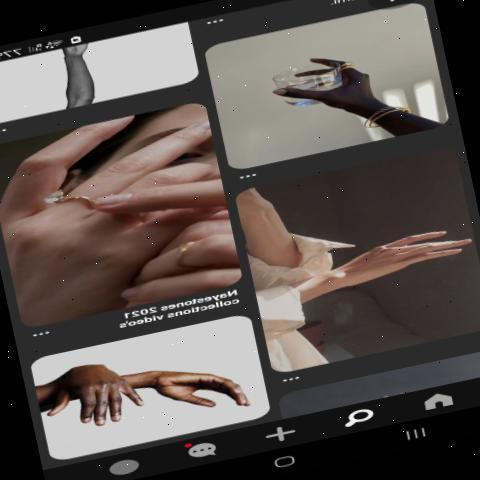Hands: (289, 199, 473, 322), (265, 34, 387, 126), (44, 364, 145, 446), (148, 349, 246, 427)
